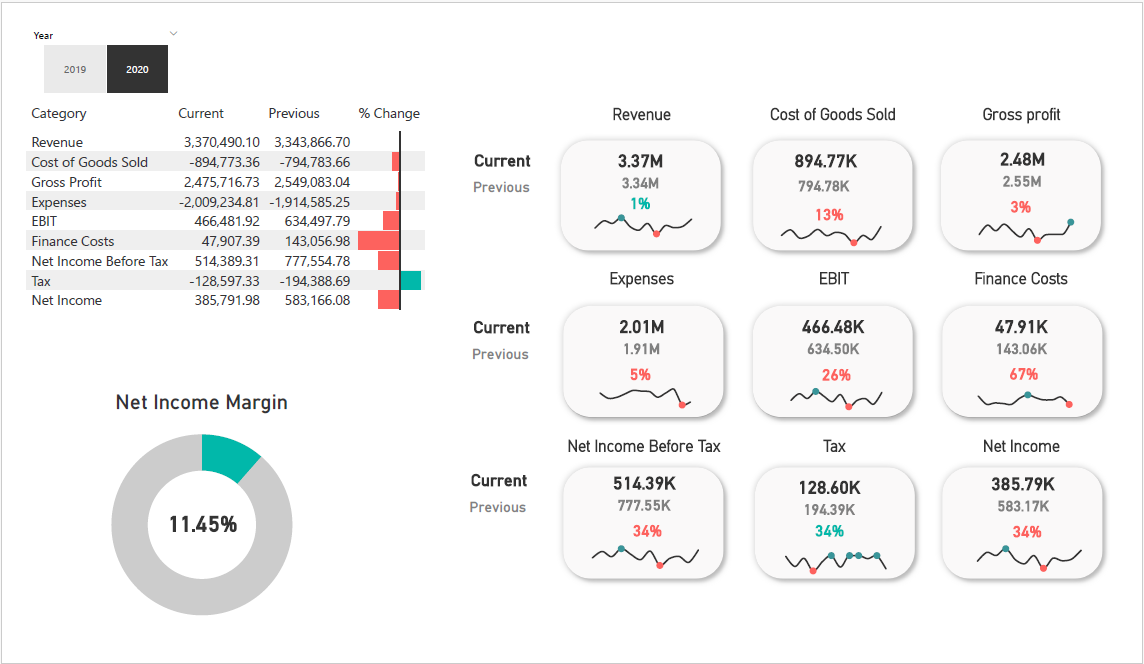

What the dashboard file says about the page in this screenshot:
{"tool":"powerbi","page":{"name":"Page 1","canvas":[1280,720],"ordinal":0},"visuals":[{"type":"pivotTable","fields":{"Rows":["Layout.Category"],"Values":["measure.Current","measure.Previous","measure.% Change"]},"box":[0,86.8,497.5,273.8],"z":0},{"type":"card","fields":{"Values":["KPIs.Gross Profit current"]},"box":[1108.1,130.9,111.3,52.6],"z":0,"group":"g3"},{"type":"card","fields":{"Values":["KPIs.COGS Current"]},"box":[879,133.1,110.9,52.7],"z":0,"group":"g2"},{"type":"card","fields":{"Values":["KPIs.Revenue current"]},"box":[663.7,133.3,111.3,52.6],"z":0,"group":"g7"},{"type":"textbox","box":[497.7,142.5,120.7,43.7],"z":0,"group":"g10"},{"type":"card","fields":{"Values":["KPIs.Expenses current"]},"box":[664.4,326.4,111.3,52.6],"z":0,"group":"g4"},{"type":"card","fields":{"Values":["KPIs.EBIT CURRENT"]},"box":[887.2,326.4,111.3,52.6],"z":0,"group":"g5"},{"type":"card","fields":{"Values":["KPIs.Finance Costs Current"]},"box":[1106.2,326.4,111.3,52.6],"z":0,"group":"g6"},{"type":"textbox","box":[496.6,336.8,120.7,43.7],"z":0,"group":"g11"},{"type":"card","fields":{"Values":["KPIs.Net Income Before Tax Current"]},"box":[667.1,508.2,111.3,52.6],"z":0,"group":"g1"},{"type":"card","fields":{"Values":["KPIs.Net Income current"]},"box":[1108,509.1,111.3,52.6],"z":0,"group":"g9"},{"type":"card","fields":{"Values":["KPIs.Tax Current"]},"box":[883,513.3,111.3,52.6],"z":0,"group":"g8"},{"type":"textbox","box":[494.3,514.9,120.7,43.7],"z":0,"group":"g12"},{"type":"slicer","fields":{"Values":["calendar.Year"]},"box":[0,0,193.1,86.8],"z":1000},{"type":"card","fields":{"Values":["KPIs.Gross Profit Previous"]},"box":[1124.4,161.6,78.2,44],"z":1000,"group":"g3"},{"type":"card","fields":{"Values":["KPIs.Revenue Previous"]},"box":[680.1,164,78.2,44],"z":1000,"group":"g7"},{"type":"card","fields":{"Values":["KPIs.COGS Previous"]},"box":[892.7,167.7,78.2,43.6],"z":1000,"group":"g2"},{"type":"textbox","box":[497.7,174.7,118.4,48.3],"z":1000,"group":"g10"},{"type":"card","fields":{"Values":["KPIs.Expenses Previous"]},"box":[680.8,357.1,78.2,44],"z":1000,"group":"g4"},{"type":"card","fields":{"Values":["KPIs.EBIT Previous"]},"box":[903.5,357.1,78.2,44],"z":1000,"group":"g5"},{"type":"card","fields":{"Values":["KPIs.Finance Costs Previous"]},"box":[1122.6,357.1,78.2,44],"z":1000,"group":"g6"},{"type":"textbox","box":[496.6,369,118.4,48.3],"z":1000,"group":"g11"},{"type":"card","fields":{"Values":["KPIs.Net Income Before Tax Previous"]},"box":[683.5,538.9,78.2,44],"z":1000,"group":"g1"},{"type":"card","fields":{"Values":["KPIs.Net Income Previous"]},"box":[1124.4,539.8,78.2,44],"z":1000,"group":"g9"},{"type":"card","fields":{"Values":["KPIs.Tax Previous"]},"box":[899.4,544,78.2,44],"z":1000,"group":"g8"},{"type":"textbox","box":[494.3,547.1,118.4,48.3],"z":1000,"group":"g12"},{"type":"card","fields":{"Values":["KPIs.% Change Revenue"]},"box":[696.4,187.5,45,45],"z":2000,"group":"g7"},{"type":"card","fields":{"Values":["KPIs.% Gross Profit Change"]},"box":[1139.1,190.9,45.2,45.2],"z":2000,"group":"g3"},{"type":"card","fields":{"Values":["KPIs.% change COGS"]},"box":[905.4,201.3,65.5,42.7],"z":2000,"group":"g2"},{"type":"card","fields":{"Values":["KPIs.% Finance Cost"]},"box":[1132,386.1,65.5,44.5],"z":2000,"group":"g6"},{"type":"card","fields":{"Values":["KPIs.% Expenses Change"]},"box":[695.4,386.4,45.2,45.2],"z":2000,"group":"g4"},{"type":"card","fields":{"Values":["KPIs.% EBIT Change"]},"box":[918.6,387,56.4,44.5],"z":2000,"group":"g5"},{"type":"donutChart","fields":{"Y":["measure.Net Income Margin","measure.Inv Net Margin"]},"box":[0,447.1,417.2,272.4],"z":2000},{"type":"card","fields":{"Values":["KPIs.% Net Income Before Tax Change"]},"box":[698.1,568,57.5,45],"z":2000,"group":"g1"},{"type":"card","fields":{"Values":["KPIs.% Tax Changes"]},"box":[915.9,568.4,45.8,45],"z":2000,"group":"g8"},{"type":"card","fields":{"Values":["KPIs.% Net Income Changes"]},"box":[1139.1,569,60,45],"z":2000,"group":"g9"},{"type":"PBI_CV_25997FEB_F466_44FA_B562_AC4063283C4C","fields":{"measure":["measure.Revenue"],"axis":["calendar.Month Name"]},"box":[648.3,209.1,152.5,46.7],"z":3000,"group":"g7"},{"type":"PBI_CV_25997FEB_F466_44FA_B562_AC4063283C4C","fields":{"measure":["measure.Gross Profit"],"axis":["calendar.Month Name"]},"box":[1095.3,214.3,146.7,49.2],"z":3000,"group":"g3"},{"type":"PBI_CV_25997FEB_F466_44FA_B562_AC4063283C4C","fields":{"measure":["measure.Cost Of Goods Sold"],"axis":["calendar.Month Name"]},"box":[864.6,216.5,155.8,50],"z":3000,"group":"g2"},{"type":"PBI_CV_25997FEB_F466_44FA_B562_AC4063283C4C","fields":{"measure":["measure.Expenses"],"axis":["calendar.Month Name"]},"box":[653.5,389.4,145,65.8],"z":3000,"group":"g4"},{"type":"PBI_CV_25997FEB_F466_44FA_B562_AC4063283C4C","fields":{"measure":["measure.EBIT"],"axis":["calendar.Month Name"]},"box":[875.7,411.1,145.8,45.8],"z":3000,"group":"g5"},{"type":"PBI_CV_25997FEB_F466_44FA_B562_AC4063283C4C","fields":{"measure":["measure.Finance Costs"],"axis":["calendar.Month Name"]},"box":[1093.9,415.3,145.8,39.2],"z":3000,"group":"g6"},{"type":"card","fields":{"Values":["measure.Net Income Margin"]},"box":[90.8,552.9,236.8,56.3],"z":3000},{"type":"PBI_CV_25997FEB_F466_44FA_B562_AC4063283C4C","fields":{"measure":["measure.Net Income Before Tax"],"axis":["calendar.Month Name"]},"box":[644.8,593.9,163.3,47.5],"z":3000,"group":"g1"},{"type":"PBI_CV_25997FEB_F466_44FA_B562_AC4063283C4C","fields":{"measure":["measure.Revenue"],"axis":["calendar.Month Name"]},"box":[1092.7,594,160.8,50.8],"z":3000,"group":"g9"},{"type":"PBI_CV_25997FEB_F466_44FA_B562_AC4063283C4C","fields":{"measure":["measure.Tax"],"axis":["calendar.Month Name"]},"box":[870,602.5,156.7,45.8],"z":3000,"group":"g8"},{"type":"shape","box":[1060.1,127.2,203.4,146.2],"z":4000},{"type":"shape","box":[840.8,127.2,203.4,146.2],"z":5000},{"type":"shape","box":[618.3,127.2,203.4,146.2],"z":6000},{"type":"shape","box":[621,320,204,147],"z":7000},{"type":"shape","box":[621,508,204,147],"z":8000},{"type":"group","id":"g1","title":"Group 1","box":[644.8,508.2,163.3,133.2],"z":9000},{"type":"group","id":"g2","title":"Group 1","box":[864.6,133.1,155.4,133.1],"z":10000},{"type":"textbox","box":[664,89,113,40],"z":11000},{"type":"textbox","box":[852,89,182,40],"z":12000},{"type":"textbox","box":[1106,89,113,40],"z":13000},{"type":"textbox","box":[664,280,113,40],"z":14000},{"type":"textbox","box":[1094,280,136,40],"z":15000},{"type":"textbox","box":[888,280,113,40],"z":16000},{"type":"shape","box":[1061,508,204,147],"z":17000},{"type":"shape","box":[843,508,204,147],"z":18000},{"type":"shape","box":[1061,320,204,147],"z":19000},{"type":"shape","box":[841,320,204,147],"z":20000},{"type":"textbox","box":[620,475,206,40],"z":21000},{"type":"textbox","box":[888,475,113,40],"z":22000},{"type":"textbox","box":[1106,475,113,40],"z":23000},{"type":"group","id":"g3","title":"Group 1","box":[1095.3,130.9,146.7,132.6],"z":24000},{"type":"group","id":"g4","title":"Group 1","box":[653.5,326.4,145,128.9],"z":25000},{"type":"group","id":"g5","title":"Group 1","box":[875.7,326.4,145.8,130.5],"z":26000},{"type":"group","id":"g6","title":"Group 1","box":[1093.9,326.4,145.8,128],"z":27000},{"type":"group","id":"g7","title":"Group 1","box":[648.3,133.3,152.5,122.5],"z":28000},{"type":"group","id":"g8","title":"Group 1","box":[870,513.3,156.7,135],"z":29000},{"type":"group","id":"g9","title":"Group 1","box":[1092.7,509.1,160.8,135.8],"z":30000},{"type":"group","id":"g10","title":"Group 2","box":[497.7,142.5,120.7,80.5],"z":31000},{"type":"group","id":"g11","title":"Group 2","box":[496.6,336.8,120.7,80.5],"z":32000},{"type":"group","id":"g12","title":"Group 2","box":[494.3,514.9,120.7,80.5],"z":33000},{"type":"textbox","box":[70.1,420.7,277,51.7],"z":34000}]}

Visuals, with their boxes on the page's 1280x720 design canvas (x1, y1, x2, y2). These are canvas units, not pixel positions in the 1144x664 screenshot, which may show the page scaled, cropped or inside an application window:
pivotTable - Layout.Category x measure.Current: left=0, top=87, right=498, bottom=361
card - KPIs.Gross Profit current: left=1108, top=131, right=1219, bottom=184
card - KPIs.COGS Current: left=879, top=133, right=990, bottom=186
card - KPIs.Revenue current: left=664, top=133, right=775, bottom=186
textbox: left=498, top=142, right=618, bottom=186
card - KPIs.Expenses current: left=664, top=326, right=776, bottom=379
card - KPIs.EBIT CURRENT: left=887, top=326, right=998, bottom=379
card - KPIs.Finance Costs Current: left=1106, top=326, right=1218, bottom=379
textbox: left=497, top=337, right=617, bottom=380
card - KPIs.Net Income Before Tax Current: left=667, top=508, right=778, bottom=561
card - KPIs.Net Income current: left=1108, top=509, right=1219, bottom=562
card - KPIs.Tax Current: left=883, top=513, right=994, bottom=566
textbox: left=494, top=515, right=615, bottom=559
slicer - calendar.Year: left=0, top=0, right=193, bottom=87
card - KPIs.Gross Profit Previous: left=1124, top=162, right=1203, bottom=206
card - KPIs.Revenue Previous: left=680, top=164, right=758, bottom=208
card - KPIs.COGS Previous: left=893, top=168, right=971, bottom=211
textbox: left=498, top=175, right=616, bottom=223
card - KPIs.Expenses Previous: left=681, top=357, right=759, bottom=401
card - KPIs.EBIT Previous: left=904, top=357, right=982, bottom=401
card - KPIs.Finance Costs Previous: left=1123, top=357, right=1201, bottom=401
textbox: left=497, top=369, right=615, bottom=417
card - KPIs.Net Income Before Tax Previous: left=684, top=539, right=762, bottom=583
card - KPIs.Net Income Previous: left=1124, top=540, right=1203, bottom=584
card - KPIs.Tax Previous: left=899, top=544, right=978, bottom=588
textbox: left=494, top=547, right=613, bottom=595
card - KPIs.% Change Revenue: left=696, top=188, right=741, bottom=232
card - KPIs.% Gross Profit Change: left=1139, top=191, right=1184, bottom=236
card - KPIs.% change COGS: left=905, top=201, right=971, bottom=244
card - KPIs.% Finance Cost: left=1132, top=386, right=1198, bottom=431
card - KPIs.% Expenses Change: left=695, top=386, right=741, bottom=432
card - KPIs.% EBIT Change: left=919, top=387, right=975, bottom=432
donutChart - measure.Net Income Margin x measure.Inv Net Margin: left=0, top=447, right=417, bottom=720
card - KPIs.% Net Income Before Tax Change: left=698, top=568, right=756, bottom=613
card - KPIs.% Tax Changes: left=916, top=568, right=962, bottom=613
card - KPIs.% Net Income Changes: left=1139, top=569, right=1199, bottom=614
PBI_CV_25997FEB_F466_44FA_B562_AC4063283C4C - measure.Revenue x calendar.Month Name: left=648, top=209, right=801, bottom=256
PBI_CV_25997FEB_F466_44FA_B562_AC4063283C4C - measure.Gross Profit x calendar.Month Name: left=1095, top=214, right=1242, bottom=264
PBI_CV_25997FEB_F466_44FA_B562_AC4063283C4C - measure.Cost Of Goods Sold x calendar.Month Name: left=865, top=216, right=1020, bottom=266
PBI_CV_25997FEB_F466_44FA_B562_AC4063283C4C - measure.Expenses x calendar.Month Name: left=654, top=389, right=798, bottom=455
PBI_CV_25997FEB_F466_44FA_B562_AC4063283C4C - measure.EBIT x calendar.Month Name: left=876, top=411, right=1022, bottom=457
PBI_CV_25997FEB_F466_44FA_B562_AC4063283C4C - measure.Finance Costs x calendar.Month Name: left=1094, top=415, right=1240, bottom=454
card - measure.Net Income Margin: left=91, top=553, right=328, bottom=609
PBI_CV_25997FEB_F466_44FA_B562_AC4063283C4C - measure.Net Income Before Tax x calendar.Month Name: left=645, top=594, right=808, bottom=641
PBI_CV_25997FEB_F466_44FA_B562_AC4063283C4C - measure.Revenue x calendar.Month Name: left=1093, top=594, right=1254, bottom=645
PBI_CV_25997FEB_F466_44FA_B562_AC4063283C4C - measure.Tax x calendar.Month Name: left=870, top=602, right=1027, bottom=648
shape: left=1060, top=127, right=1264, bottom=273
shape: left=841, top=127, right=1044, bottom=273
shape: left=618, top=127, right=822, bottom=273
shape: left=621, top=320, right=825, bottom=467
shape: left=621, top=508, right=825, bottom=655
"Group 1" group: left=645, top=508, right=808, bottom=641
"Group 1" group: left=865, top=133, right=1020, bottom=266
textbox: left=664, top=89, right=777, bottom=129
textbox: left=852, top=89, right=1034, bottom=129
textbox: left=1106, top=89, right=1219, bottom=129
textbox: left=664, top=280, right=777, bottom=320
textbox: left=1094, top=280, right=1230, bottom=320
textbox: left=888, top=280, right=1001, bottom=320
shape: left=1061, top=508, right=1265, bottom=655
shape: left=843, top=508, right=1047, bottom=655
shape: left=1061, top=320, right=1265, bottom=467
shape: left=841, top=320, right=1045, bottom=467
textbox: left=620, top=475, right=826, bottom=515
textbox: left=888, top=475, right=1001, bottom=515
textbox: left=1106, top=475, right=1219, bottom=515
"Group 1" group: left=1095, top=131, right=1242, bottom=264
"Group 1" group: left=654, top=326, right=798, bottom=455
"Group 1" group: left=876, top=326, right=1022, bottom=457
"Group 1" group: left=1094, top=326, right=1240, bottom=454
"Group 1" group: left=648, top=133, right=801, bottom=256
"Group 1" group: left=870, top=513, right=1027, bottom=648
"Group 1" group: left=1093, top=509, right=1254, bottom=645
"Group 2" group: left=498, top=142, right=618, bottom=223
"Group 2" group: left=497, top=337, right=617, bottom=417
"Group 2" group: left=494, top=515, right=615, bottom=595
textbox: left=70, top=421, right=347, bottom=472
